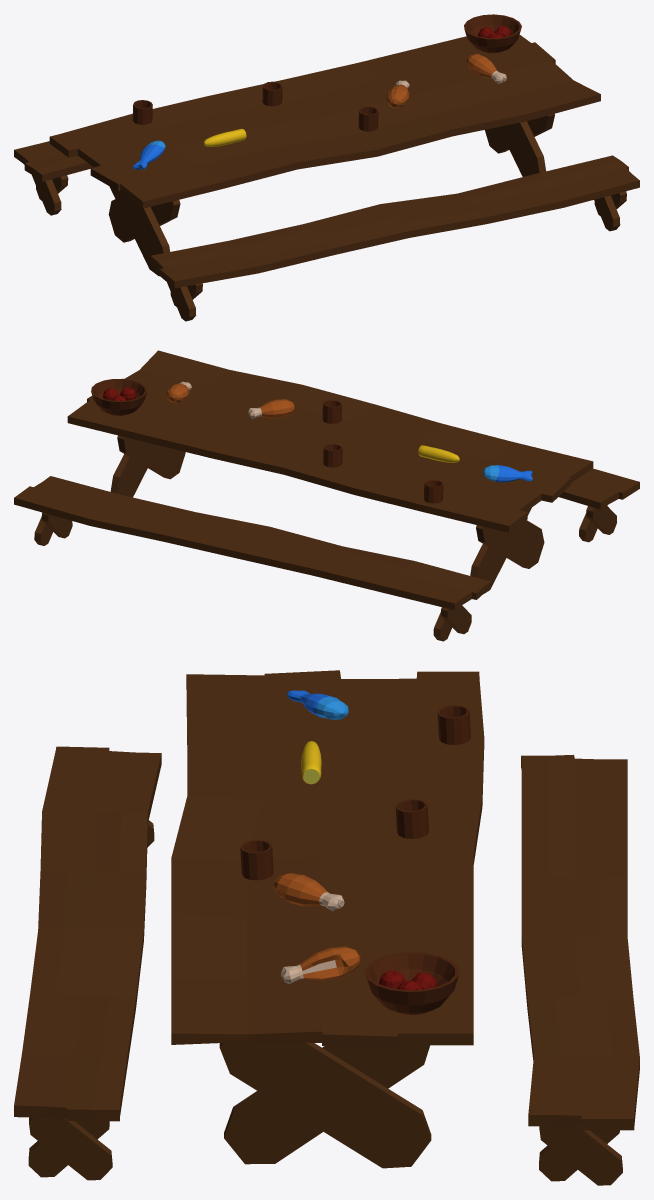
The model's file is Bench set Basic with food FBX.fbx.
3 renders of one model, top to bottom at view 1: azimuth 30°, elevation 25°; view 2: azimuth 150°, elevation 25°; view 3: azimuth 270°, elevation 25°, orthographic. The views are drawn at different scales.
Parts seen in each view (by area): view 1: Box003, Sphere005, Sphere003, Sphere001, Cylinder005, Sphere002, Cylinder002, Cylinder003, Cylinder004; view 2: Box003, Sphere005, Sphere002, Sphere001, Cylinder005, Cylinder003, Cylinder002, Cylinder004; view 3: Box003, Sphere005, Sphere003, Sphere002, Cylinder002, Cylinder004, Cylinder003, Sphere001, Cylinder005.
Part boxes in pixels (x1,y1,x2,y2): Box003: (14, 34, 639, 321); Sphere005: (464, 14, 521, 53); Sphere003: (466, 54, 506, 83); Sphere001: (132, 140, 165, 169); Cylinder005: (203, 128, 246, 146); Sphere002: (386, 80, 409, 107); Cylinder002: (358, 106, 378, 131); Cylinder003: (262, 81, 282, 106); Cylinder004: (132, 100, 152, 124); Box003: (14, 350, 639, 641); Sphere005: (91, 378, 147, 415); Sphere002: (248, 399, 294, 418); Sphere001: (483, 465, 532, 482); Cylinder005: (418, 445, 459, 462); Cylinder003: (323, 444, 342, 467); Cylinder002: (322, 400, 341, 423); Cylinder004: (424, 480, 443, 503); Box003: (14, 670, 639, 1185); Sphere005: (365, 952, 458, 1014); Sphere003: (281, 946, 360, 984); Sphere002: (274, 873, 344, 911); Cylinder002: (240, 840, 273, 880); Cylinder004: (437, 705, 470, 744); Cylinder003: (395, 799, 428, 838); Sphere001: (287, 690, 348, 720); Cylinder005: (301, 741, 321, 784).
Size of the model in its own units: 521 by 130 by 371.
